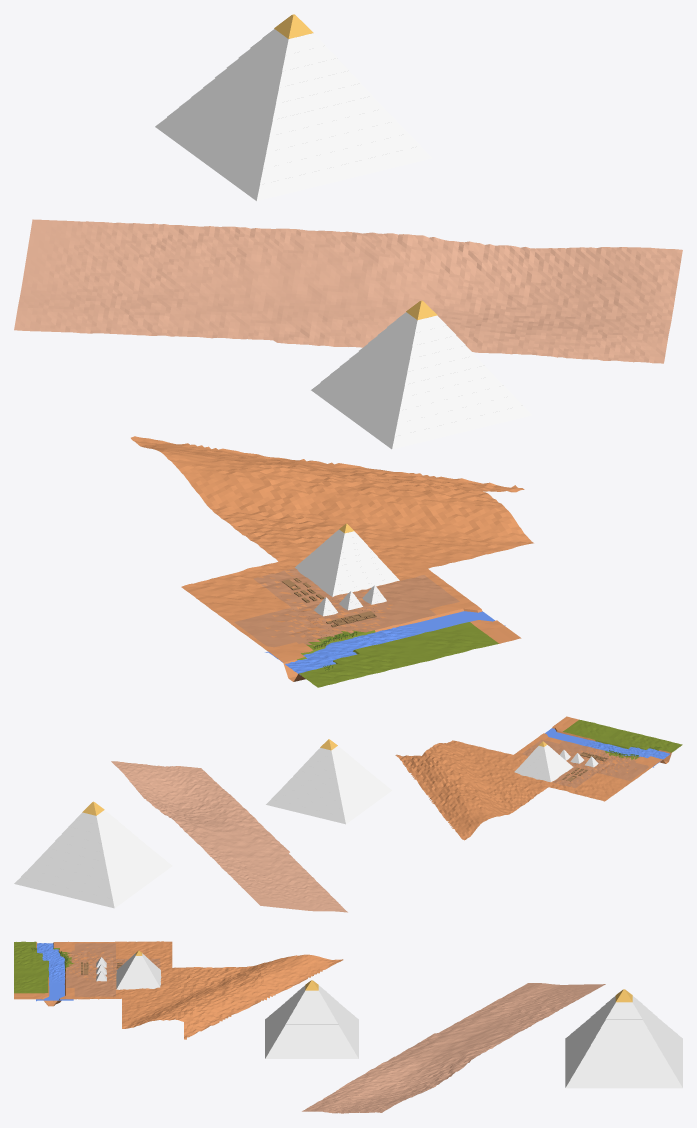
Rendered from fondo_egipcio.fbx.
3 views of the same model, one above another, from view 1: azimuth 30°, elevation 25°; view 2: azimuth 150°, elevation 25°; view 3: azimuth 270°, elevation 25° (orthographic). The views are drawn at different scales.
Visible parts, largest first — view 1: Fondo_egipcio; view 2: Fondo_egipcio; view 3: Fondo_egipcio.
Boxes of the visible parts, x1=… form: Fondo_egipcio: x1=14, y1=14, x2=682, y2=687; Fondo_egipcio: x1=14, y1=716, x2=682, y2=912; Fondo_egipcio: x1=14, y1=941, x2=682, y2=1113.
Bounding box in the file's own units: 40296 × 9864 × 58920.
